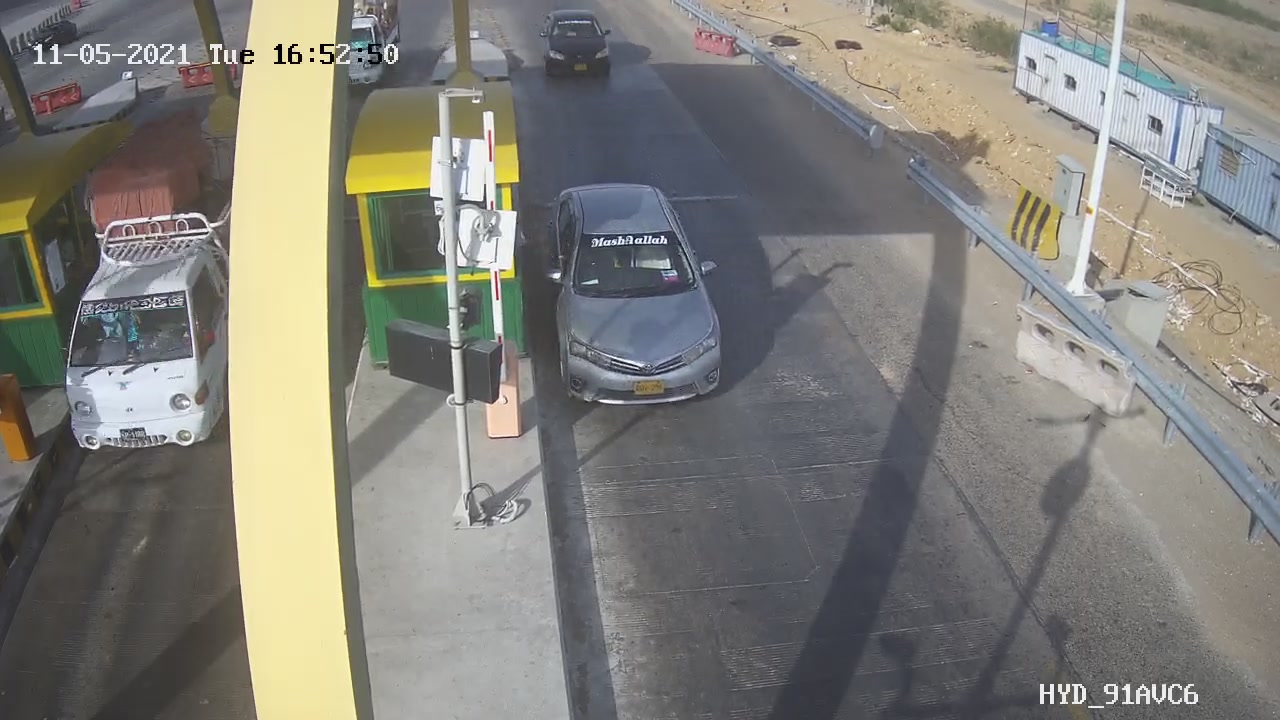F1: (526, 165, 748, 425)
